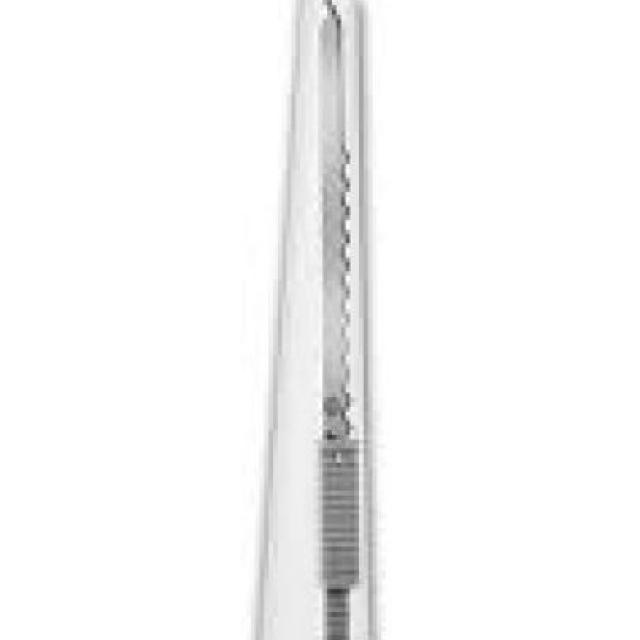estilete: (255, 0, 375, 640)
